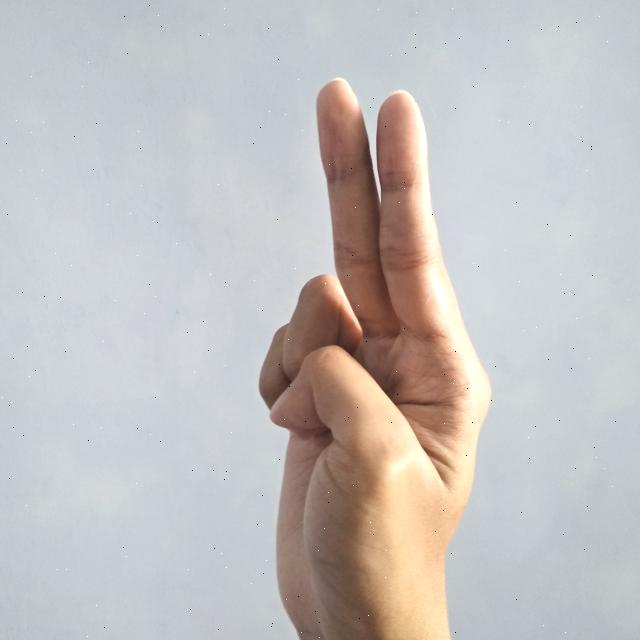U: (254, 66, 498, 640)
